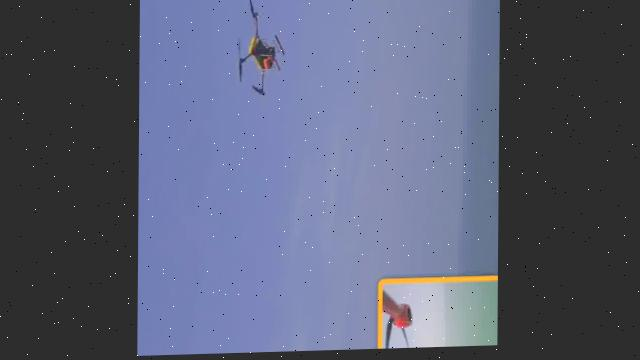drone: (224, 0, 291, 110)
